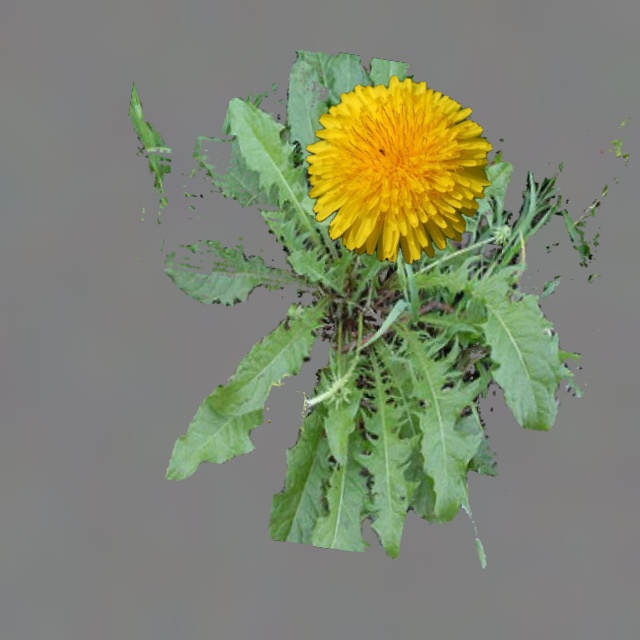dandelion: (129, 46, 629, 568), (306, 76, 492, 263)
